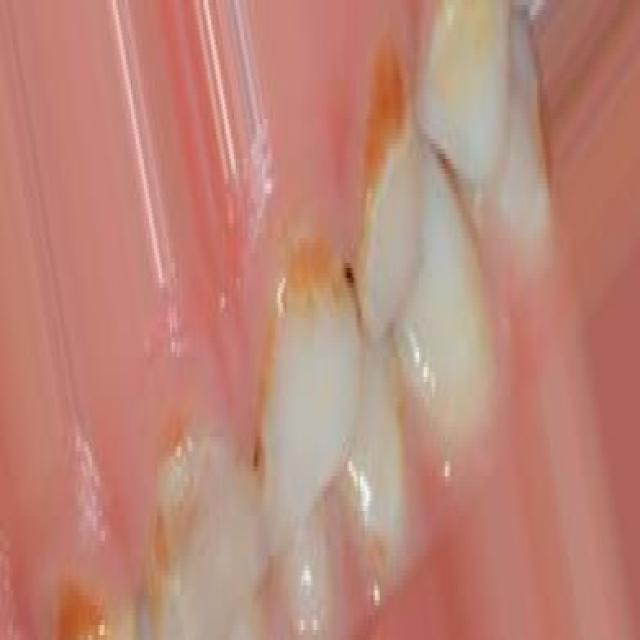caries: (244, 236, 342, 430), (357, 31, 412, 255), (142, 418, 203, 598), (51, 562, 112, 638)
